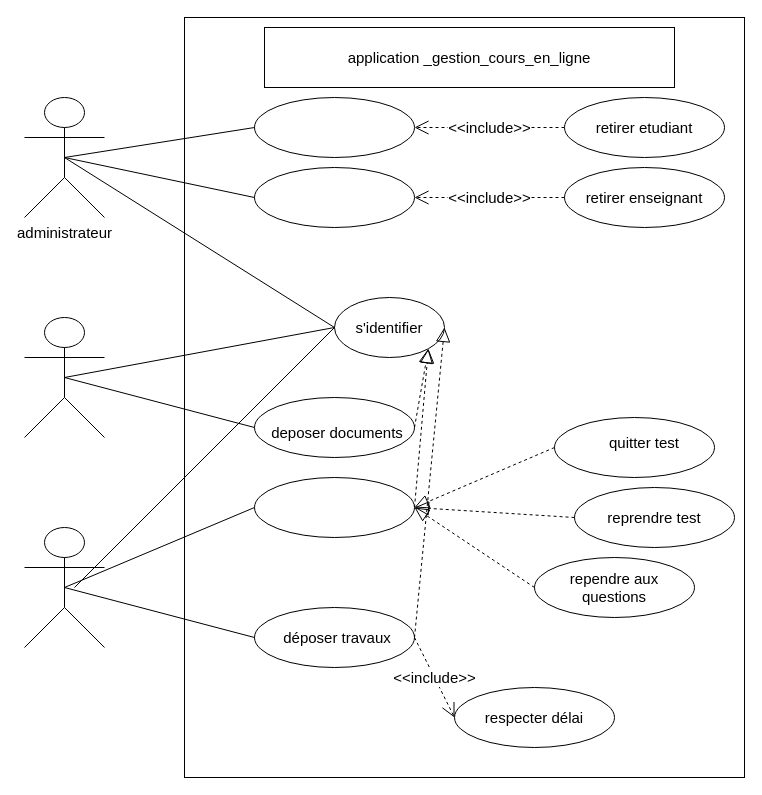
Some shapes in this 762 by 795 pixel diagram are drawn without their labels. Each missing label, with the centre of its shape:
"enseignant" belongs at (x=64, y=377).
"Etudiant" belongs at (x=64, y=587).
"inscrire enseignant" belongs at (x=334, y=197).
"inscrire etudiant" belongs at (x=334, y=127).
"passer un test" belongs at (x=334, y=507).
